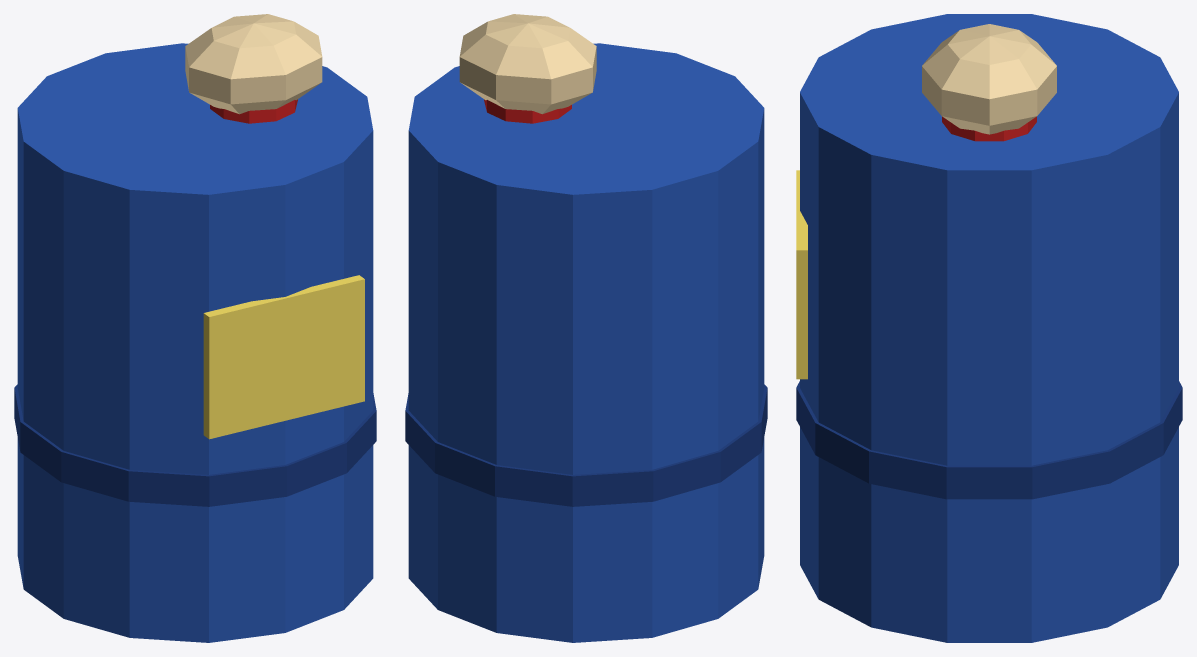
The model's file is yeast_drum.glb.
3 renders of one model, left to right at view 1: azimuth 30°, elevation 25°; view 2: azimuth 150°, elevation 25°; view 3: azimuth 270°, elevation 25°, orthographic. The views are drawn at different scales.
Parts seen in each view (by area): view 1: drum_drum_blue, label_drum_label, band_drum_band, foam_dough, cap_drum_cap; view 2: drum_drum_blue, band_drum_band, foam_dough, cap_drum_cap; view 3: drum_drum_blue, band_drum_band, foam_dough, label_drum_label, cap_drum_cap.
Boxes of the visible parts, x1,y1,x2,y2 form: drum_drum_blue: [17, 43, 373, 642]; label_drum_label: [203, 275, 364, 439]; band_drum_band: [14, 384, 376, 506]; foam_dough: [185, 14, 322, 114]; cap_drum_cap: [210, 99, 297, 123]; drum_drum_blue: [408, 43, 764, 642]; band_drum_band: [405, 384, 767, 506]; foam_dough: [459, 14, 596, 114]; cap_drum_cap: [484, 99, 571, 123]; drum_drum_blue: [800, 14, 1178, 642]; band_drum_band: [796, 381, 1182, 499]; foam_dough: [922, 24, 1056, 134]; label_drum_label: [796, 170, 807, 379]; cap_drum_cap: [942, 116, 1036, 141].
Size of the model in its own units: 0.3178 by 0.52 by 0.326.
